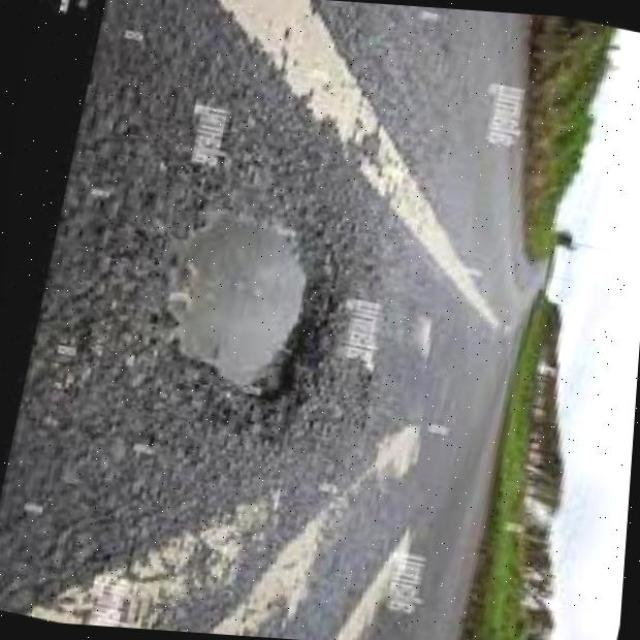pothole: (164, 202, 341, 416)
